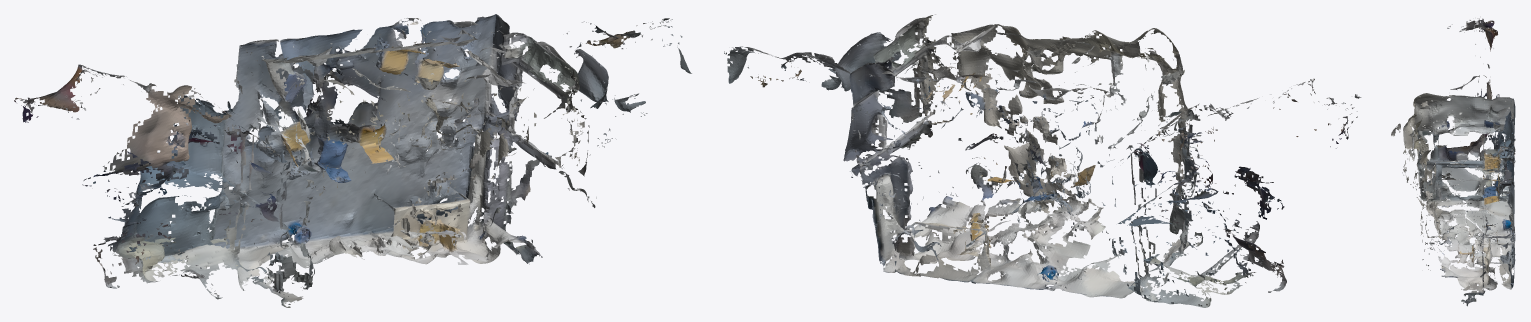
File: PGSR.glb
3 renders of one model, left to right at view 1: azimuth 30°, elevation 25°; view 2: azimuth 150°, elevation 25°; view 3: azimuth 270°, elevation 25°, orthographic. The views are drawn at different scales.
Size of the model in its own units: 12.28 by 5.22 by 3.57.
